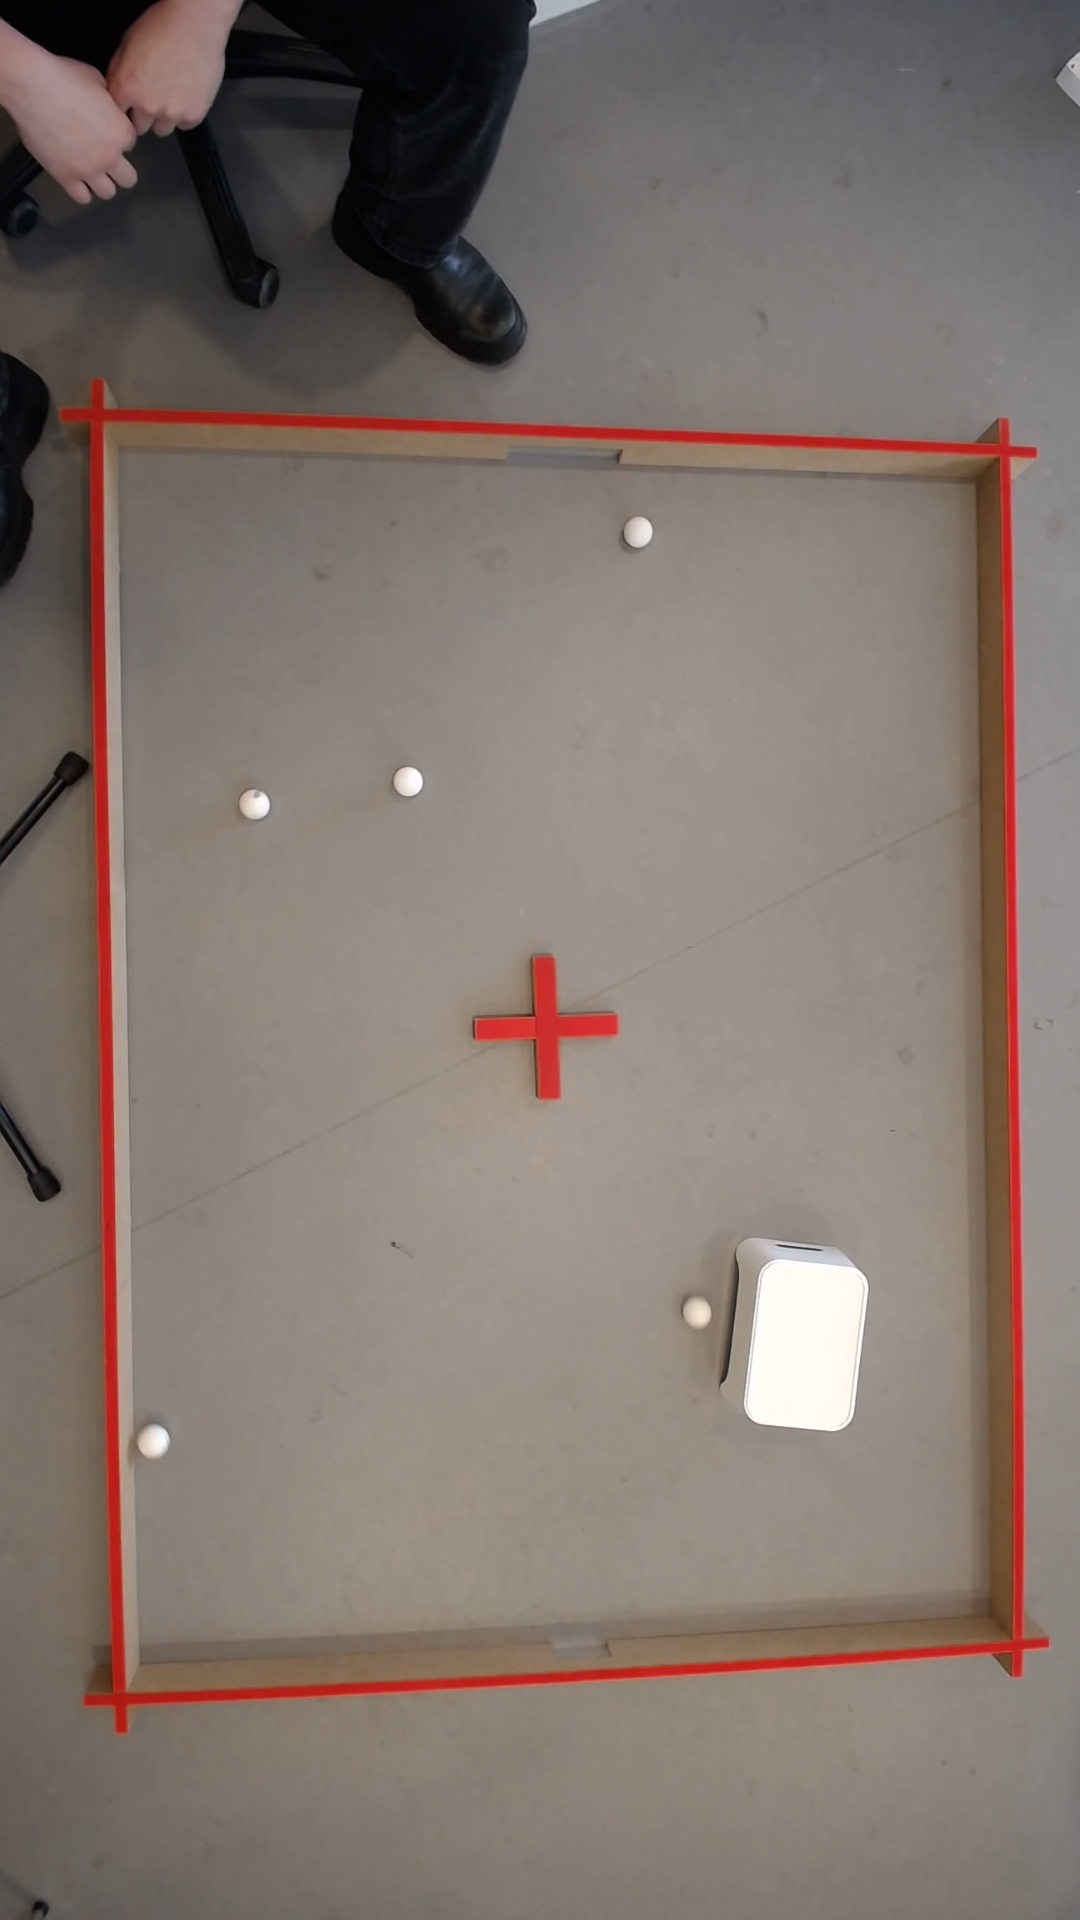balls: (137, 1422, 173, 1460), (392, 762, 426, 799), (626, 516, 657, 547), (247, 794, 269, 816)
car: (687, 1300, 711, 1325)
